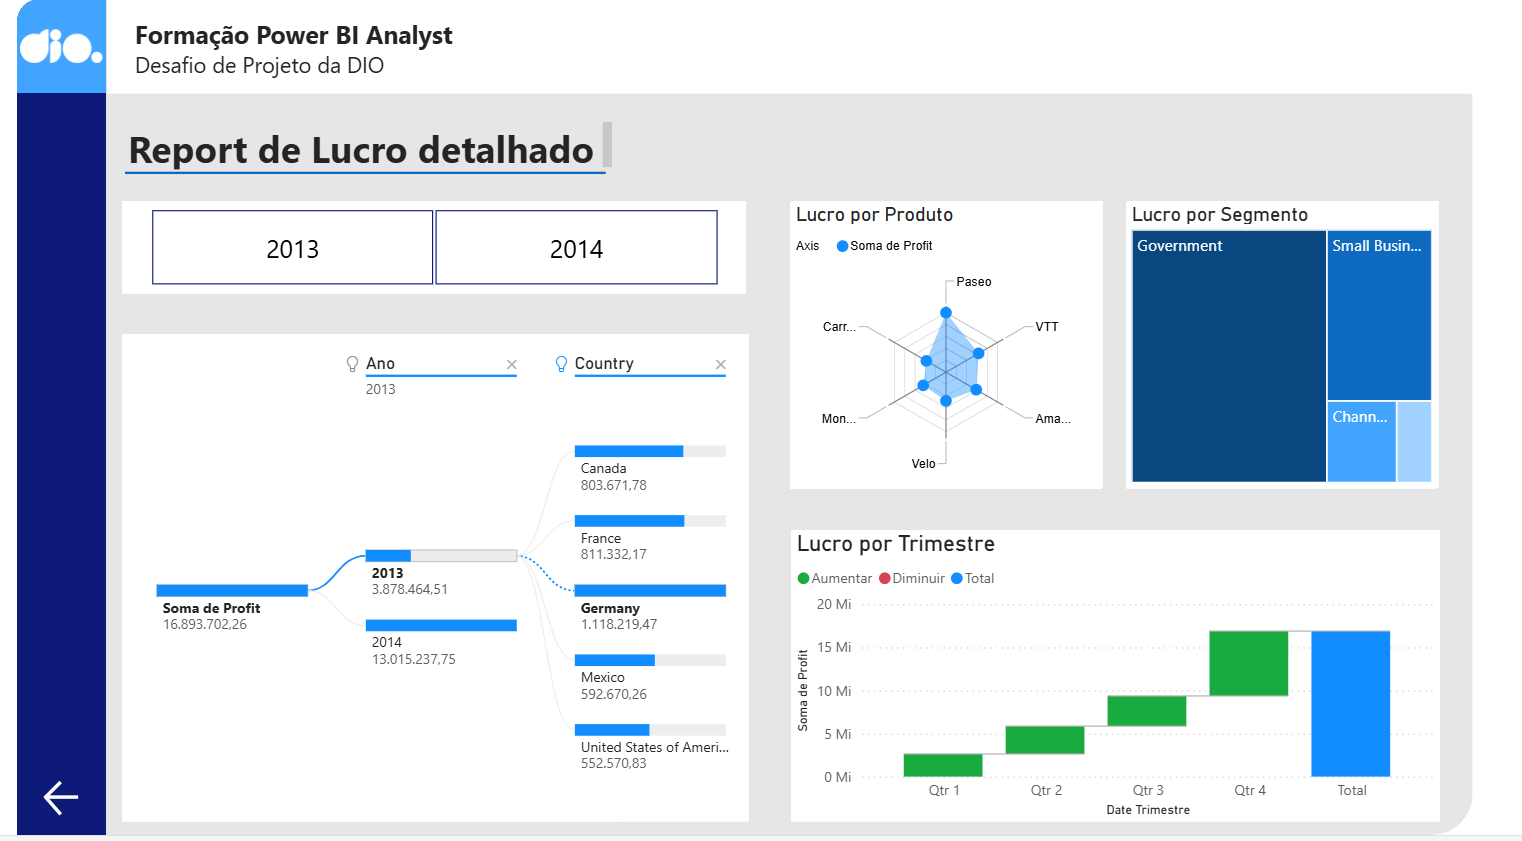

This screenshot's page, from the dashboard's own definition file:
{"tool":"powerbi","page":{"name":"Página 2","canvas":[1280,720],"ordinal":1},"visuals":[{"type":"shape","box":[10,0,1252.9,720],"z":0},{"type":"shape","box":[102.9,128.2,414.3,42.9],"z":0,"group":"g1"},{"type":"shape","box":[9.6,0,76.8,720.4],"z":1000},{"type":"textbox","box":[100,100.8,427.1,51.4],"z":1000,"group":"g1"},{"type":"shape","box":[9.6,0,76.8,81],"z":2000},{"type":"image","title":"img_logo_dio","box":[12.3,17.8,71.4,45.3],"z":3000},{"type":"shape","box":[86.7,0,1176.7,81.7],"z":4000},{"type":"textbox","box":[105.7,10,327.1,62.9],"z":5000},{"type":"group","id":"g1","title":"Title report","box":[100,100.8,427.1,70.3],"z":6000},{"type":"actionButton","box":[24.3,668.6,47.1,40],"z":7000},{"type":"shape","box":[100,173.8,537.5,80],"z":8000},{"type":"shape","box":[100,288.6,427.1,420],"z":9000},{"type":"shape","box":[675.7,457.1,558.6,251.4],"z":10000},{"type":"shape","box":[965.7,174.3,268.6,247.1],"z":11000},{"type":"waterfallChart","title":"Lucro por Trimestre","fields":{"Category":["financials.Date.Variation.Hierarquia de datas.Trimestre"],"Y":["Sum(financials.Profit)"]},"box":[675.7,457.1,558.6,251.4],"z":12000},{"type":"decompositionTreeVisual","fields":{"ExplainBy":["financials.Date.Variation.Hierarquia de datas.Ano","financials.Country"],"Analyze":["Sum(financials.Profit)"]},"box":[100,288.6,540,420],"z":13000},{"type":"shape","box":[675.7,174.3,268.6,247.1],"z":14000},{"type":"slicer","fields":{"Values":["financials.Date.Variation.Hierarquia de datas.Ano"]},"box":[100,175,536.7,78.3],"z":15000},{"type":"treemap","title":"Lucro por Segmento","fields":{"Values":["Sum(financials.Profit)"],"Group":["financials.Segment"]},"box":[965,175,268.3,246.7],"z":15001},{"type":"RadarChart1446119667547","title":"Lucro por Produto","fields":{"Y":["Sum(financials.Profit)"],"Category":["financials.Product"]},"box":[675,175,268.3,246.7],"z":15002}]}

Visuals, with their boxes on the page's 1280x720 design canvas (x1, y1, x2, y2). These are canvas units, not pixel positions in the 1522x841 screenshot, which may show the page scaled, cropped or inside an application window:
shape: box=[10, 0, 1263, 720]
shape: box=[103, 128, 517, 171]
shape: box=[10, 0, 86, 720]
textbox: box=[100, 101, 527, 152]
shape: box=[10, 0, 86, 81]
"img_logo_dio" image: box=[12, 18, 84, 63]
shape: box=[87, 0, 1263, 82]
textbox: box=[106, 10, 433, 73]
"Title report" group: box=[100, 101, 527, 171]
actionButton: box=[24, 669, 71, 709]
shape: box=[100, 174, 638, 254]
shape: box=[100, 289, 527, 709]
shape: box=[676, 457, 1234, 708]
shape: box=[966, 174, 1234, 421]
"Lucro por Trimestre" waterfallChart: box=[676, 457, 1234, 708]
decompositionTreeVisual - financials.Date.Variation.Hierarquia de datas.Ano x financials.Country: box=[100, 289, 640, 709]
shape: box=[676, 174, 944, 421]
slicer - financials.Date.Variation.Hierarquia de datas.Ano: box=[100, 175, 637, 253]
"Lucro por Segmento" treemap: box=[965, 175, 1233, 422]
"Lucro por Produto" RadarChart1446119667547: box=[675, 175, 943, 422]
